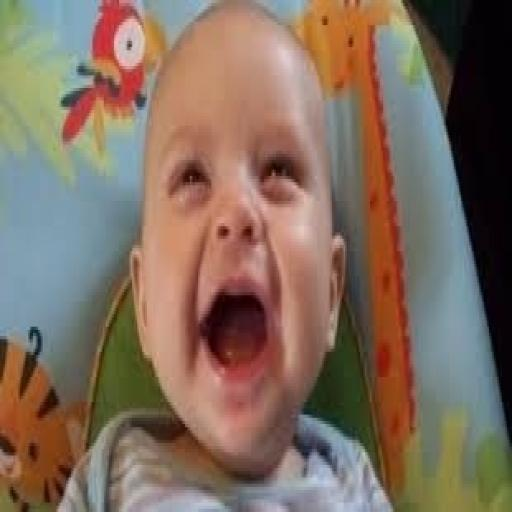laughing: (53, 3, 398, 503)
